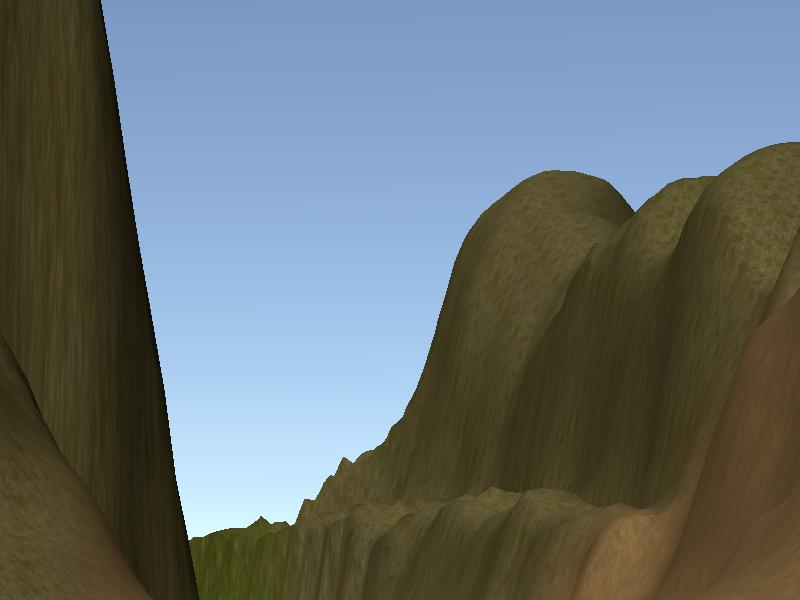background: (3, 2, 800, 600)
